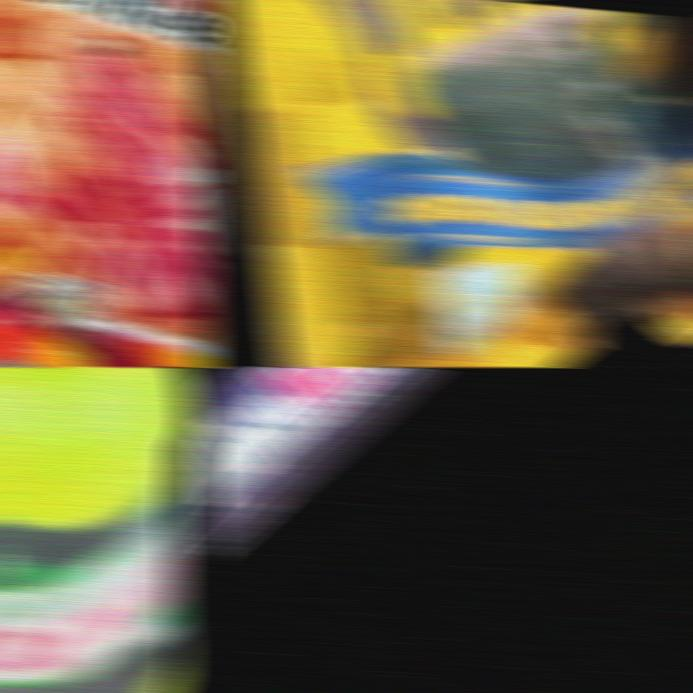choco mucho: (199, 367, 441, 561)
mountain dew: (0, 367, 198, 693)
oishi crackers: (0, 0, 215, 367)
pillows: (221, 0, 693, 367)
